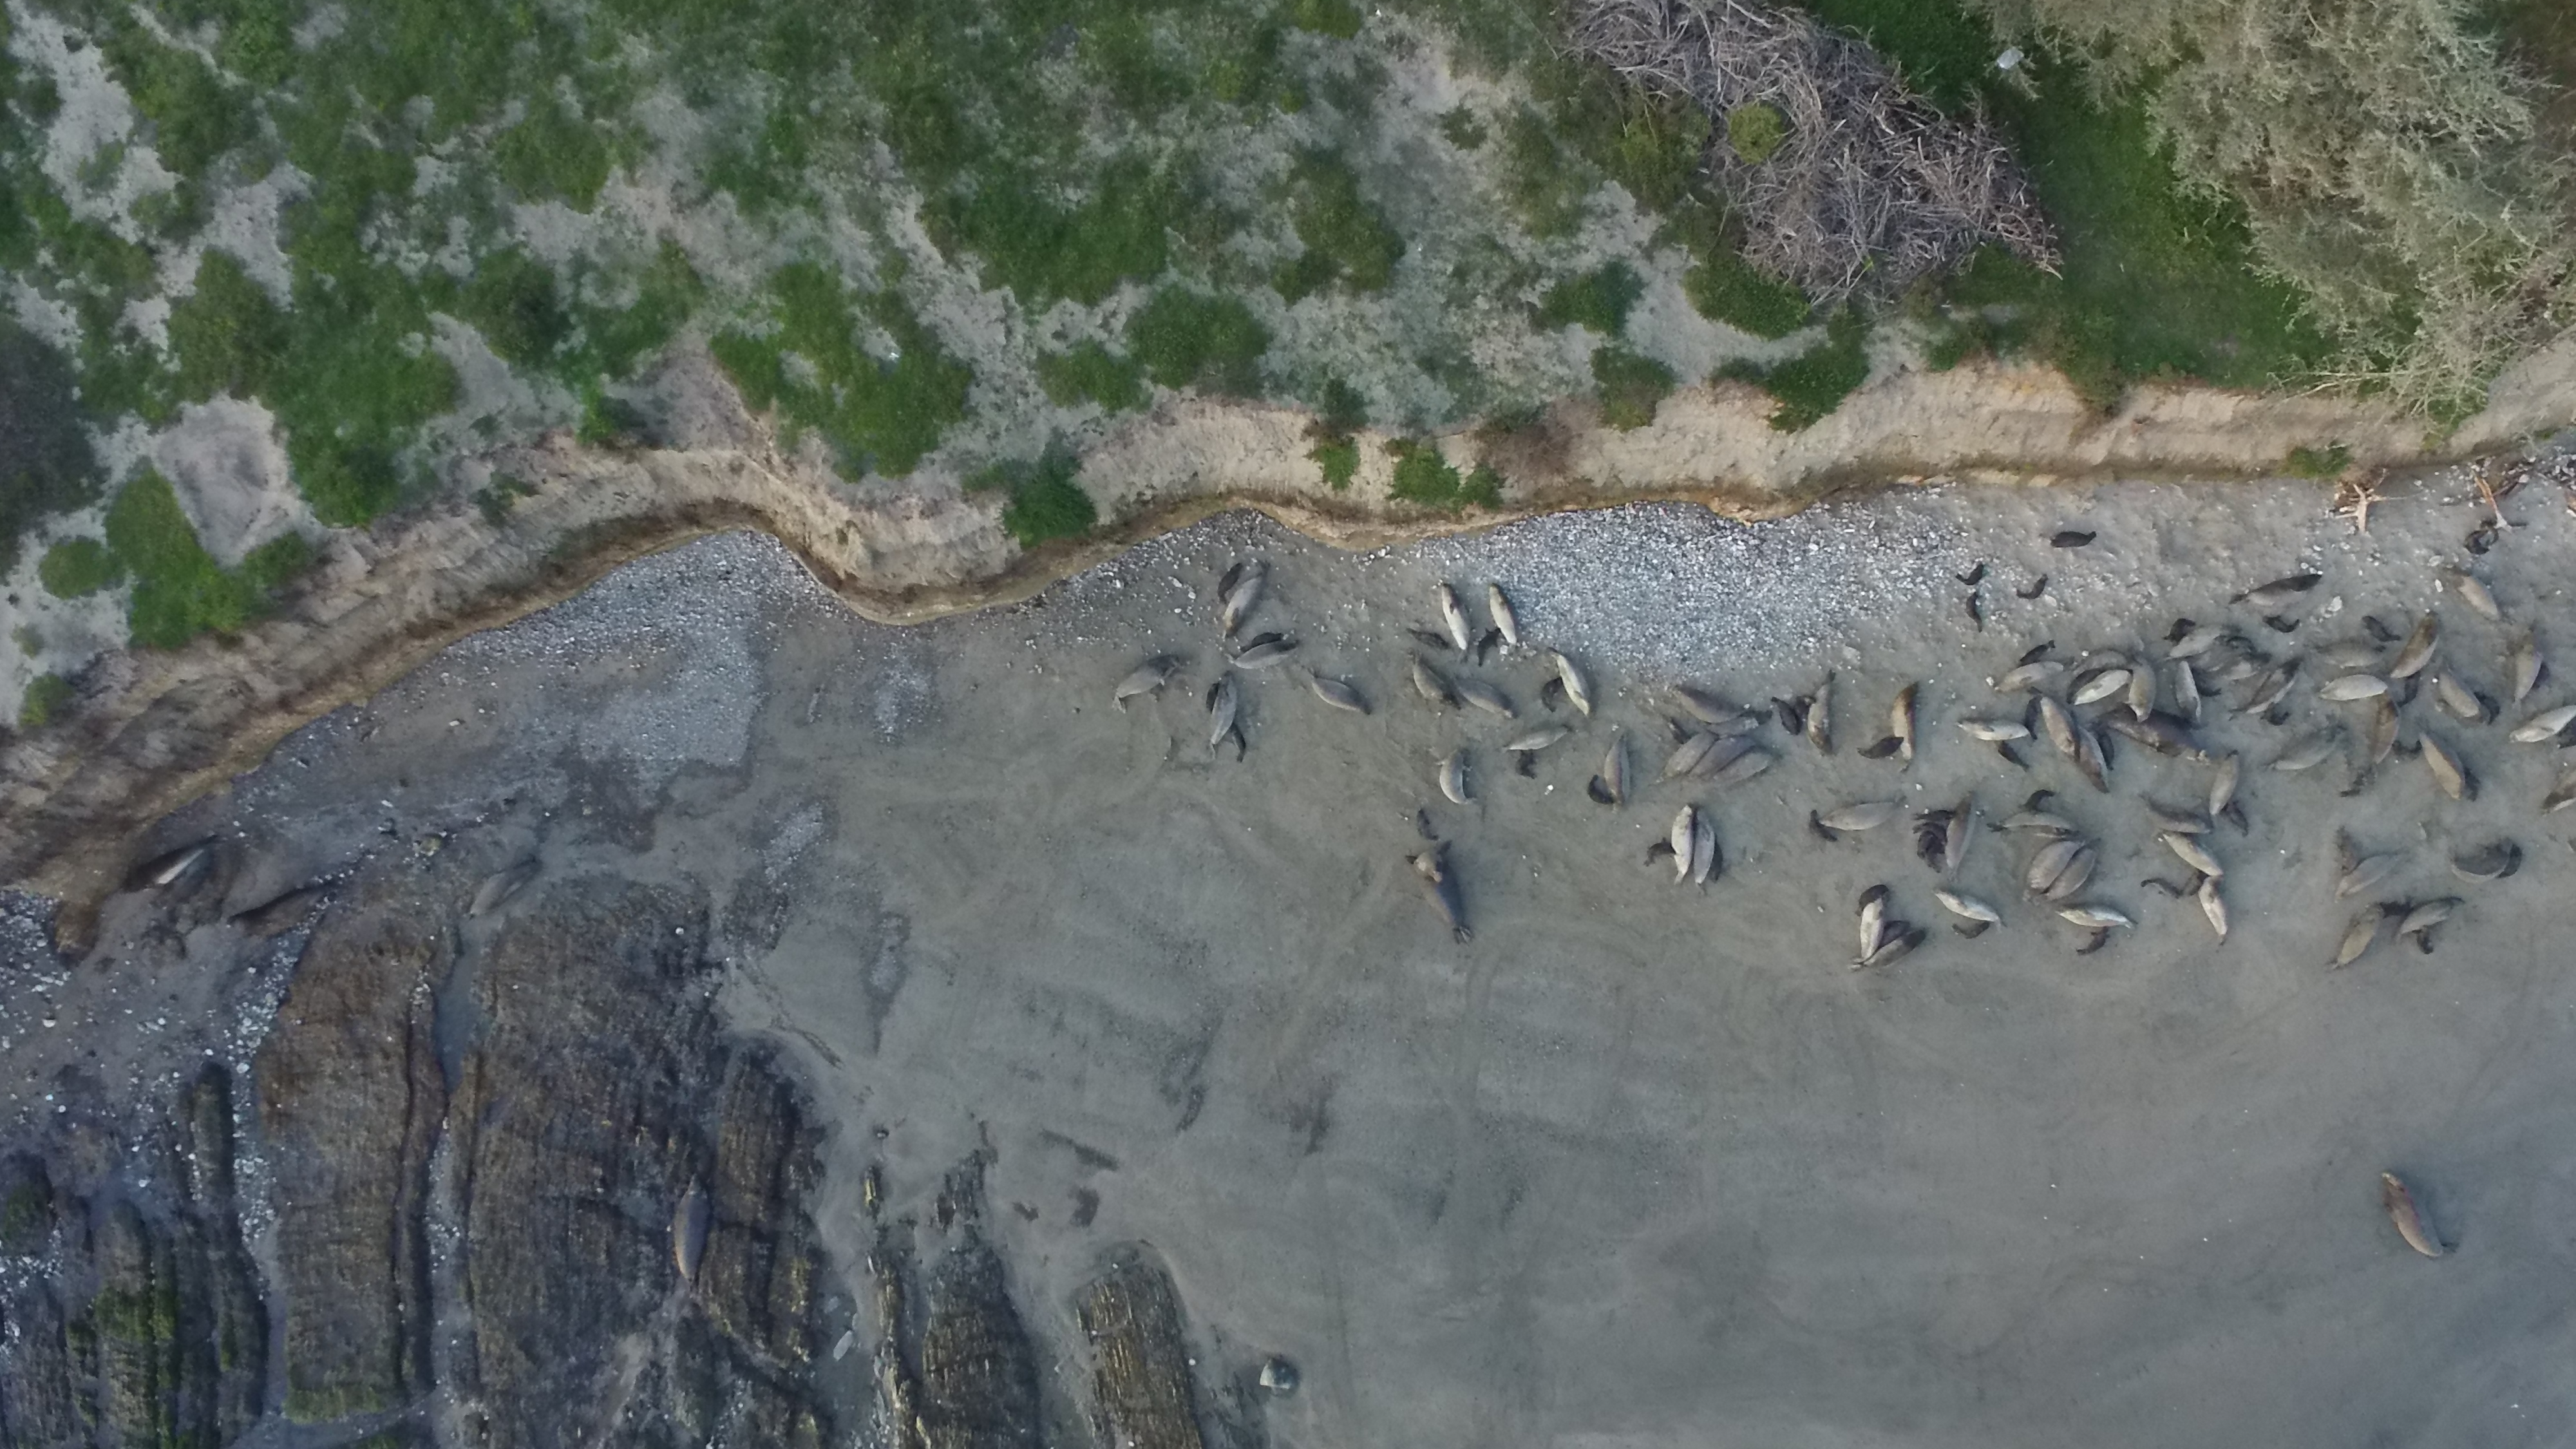adult male: (2380, 1171, 2457, 1261), (1405, 840, 1472, 945), (2093, 704, 2210, 763)
male juvenile / female juvenile / adult female: (2227, 658, 2305, 722), (2024, 839, 2098, 904), (1111, 655, 1182, 715), (2035, 844, 2098, 908), (2328, 902, 2385, 971), (2263, 725, 2346, 771), (1223, 559, 1270, 637), (2387, 614, 2442, 679), (2417, 729, 2466, 800), (2392, 897, 2465, 945), (2029, 686, 2077, 757), (2445, 566, 2503, 623), (1654, 731, 1718, 782), (2157, 830, 2226, 876), (1668, 685, 1750, 724), (1851, 929, 1925, 971), (2337, 853, 2408, 897), (1307, 667, 1371, 715), (2436, 660, 2484, 724), (1817, 798, 1905, 832), (1944, 791, 1978, 879), (2229, 575, 2321, 607), (1451, 674, 1516, 718), (2139, 793, 2212, 832), (1890, 681, 1920, 773), (2164, 625, 2242, 660), (1934, 890, 2003, 929), (1550, 651, 1591, 717), (1412, 656, 1461, 709), (2450, 840, 2512, 883), (2512, 628, 2544, 708), (1852, 895, 1888, 964), (2511, 706, 2576, 743), (1994, 660, 2070, 692), (1808, 671, 1836, 754), (1210, 671, 1237, 759), (1442, 584, 1470, 663), (1713, 747, 1783, 778), (2054, 904, 2137, 931), (1437, 748, 1476, 805), (2194, 653, 2272, 681), (1987, 812, 2081, 835), (1224, 640, 1299, 669), (2068, 669, 2130, 702), (1605, 731, 1631, 809), (2374, 692, 2401, 770), (2128, 651, 2157, 724), (2199, 876, 2227, 945), (2318, 674, 2388, 701), (1490, 584, 1520, 646), (2210, 750, 2238, 816), (2312, 642, 2385, 667), (1672, 805, 1695, 883), (1704, 709, 1773, 734), (1955, 718, 2029, 741), (1693, 809, 1714, 886), (1506, 725, 1569, 750), (2070, 651, 2130, 674)
pup: (1688, 734, 1757, 777), (1854, 883, 1890, 918), (2066, 669, 2102, 702), (1875, 920, 1911, 952), (1771, 699, 1801, 736), (2017, 640, 2056, 669), (1217, 563, 1242, 605), (2360, 617, 2403, 642), (1856, 738, 1904, 759), (2022, 692, 2042, 741), (2396, 669, 2420, 708), (1997, 741, 2029, 771), (2472, 692, 2500, 725), (1405, 628, 1449, 649), (2224, 798, 2249, 835), (2339, 824, 2357, 876), (1644, 837, 1675, 865), (2077, 927, 2109, 955), (2141, 879, 2183, 901), (1706, 833, 1723, 883), (2496, 846, 2521, 881), (2095, 727, 2114, 771), (1477, 628, 1500, 665), (2180, 869, 2206, 901), (2164, 619, 2196, 646), (1913, 821, 1948, 844), (2457, 766, 2480, 801), (1810, 810, 1836, 840), (1240, 633, 1284, 651), (1541, 678, 1562, 713), (2017, 575, 2047, 600), (2051, 531, 2097, 547), (1589, 775, 1614, 803), (2024, 789, 2054, 812), (1951, 924, 1994, 939), (1230, 722, 1246, 763), (1417, 810, 1438, 840), (1516, 748, 1537, 778), (1966, 593, 1982, 632), (2261, 616, 2300, 632), (2219, 637, 2258, 653), (1667, 720, 1691, 745), (2465, 531, 2489, 556), (1916, 832, 1939, 858), (1923, 844, 1944, 872), (1955, 564, 1983, 586), (2394, 740, 2422, 761), (2413, 925, 2434, 954), (2378, 904, 2419, 918), (2532, 662, 2549, 694), (2557, 720, 2576, 748), (1792, 695, 1815, 718), (1913, 810, 1957, 821), (1205, 683, 1219, 715), (2265, 709, 2289, 725), (2192, 683, 2222, 695)
